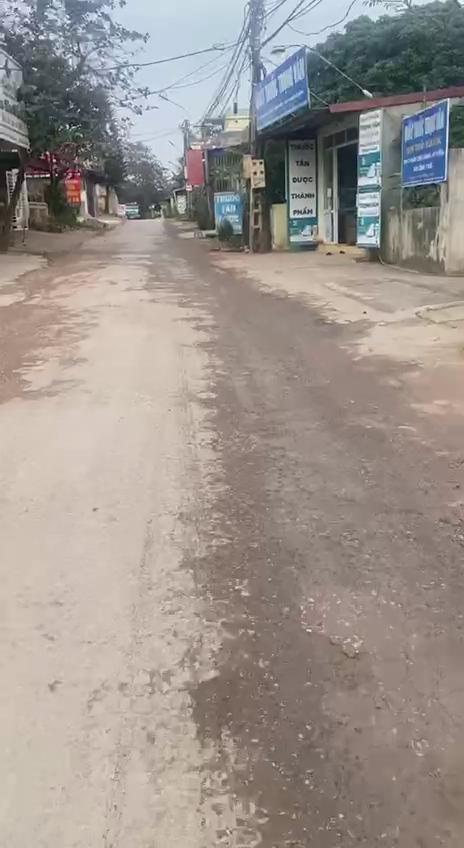pothole: (252, 581, 360, 848), (189, 652, 257, 754)
